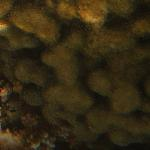dead: (8, 2, 144, 147)
